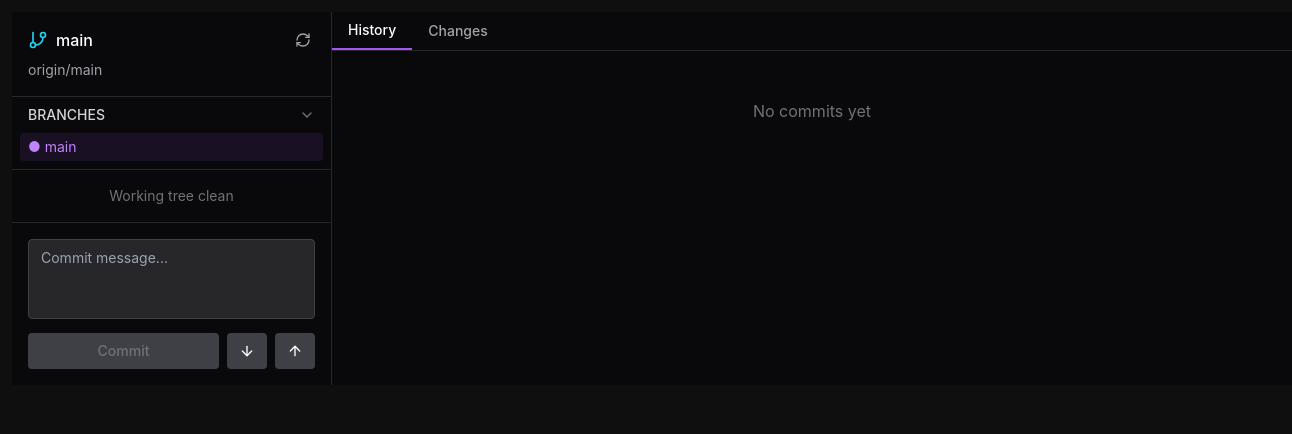
GitPanel › Pull/Push Operations › should display error when push fails
Click the button titled "Push". click: click(295, 351)
box: [275,333,315,369]
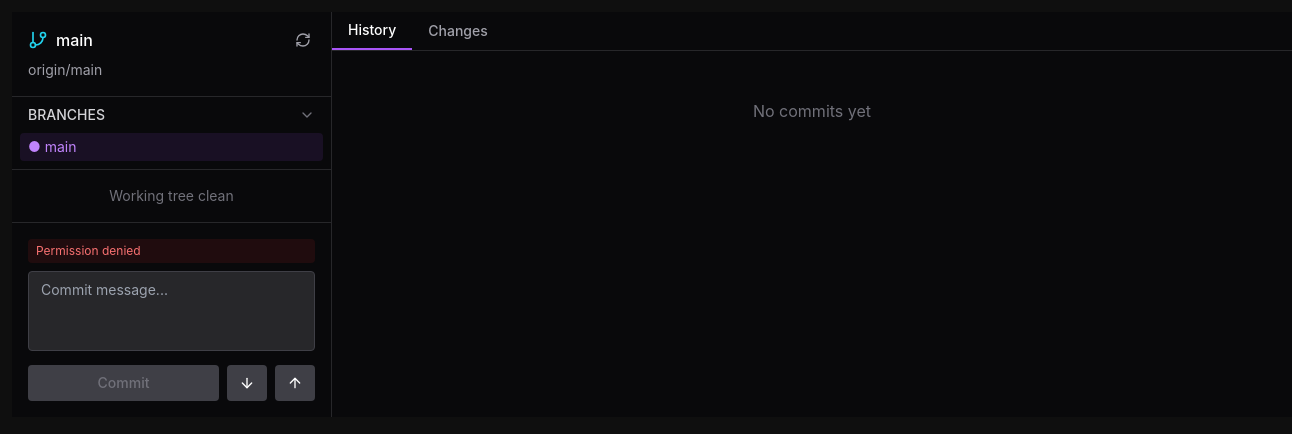
Result: the text "Permission denied" is shown at [28,239,315,263]
